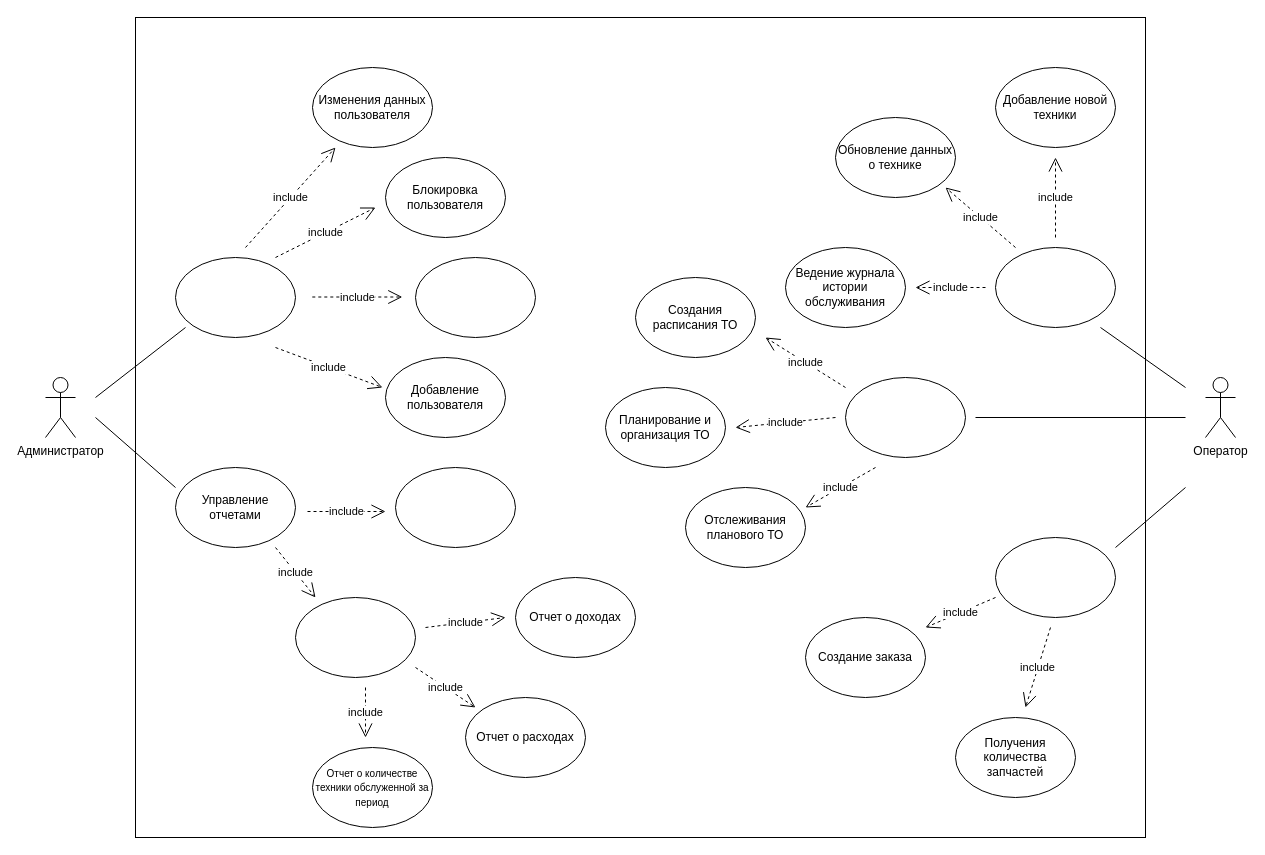
Image size: 1265x855. Some labels were removed from this diagram. The shapes that lost their labels are listed below. From the top down, each one's box as (x1, y1, x2, y2) in pixels, then its label:
(174, 256, 296, 338): Управление пользователями
(414, 256, 536, 338): Удаление пользователя
(994, 246, 1116, 328): Управление техникой
(844, 376, 966, 458): Управление ТО
(394, 466, 516, 548): Архивирование отчетов
(994, 536, 1116, 618): Контроль запчастей на складе
(294, 596, 416, 678): Генерация отчетов
